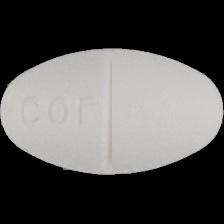55154-0696: (0, 0, 224, 224)
